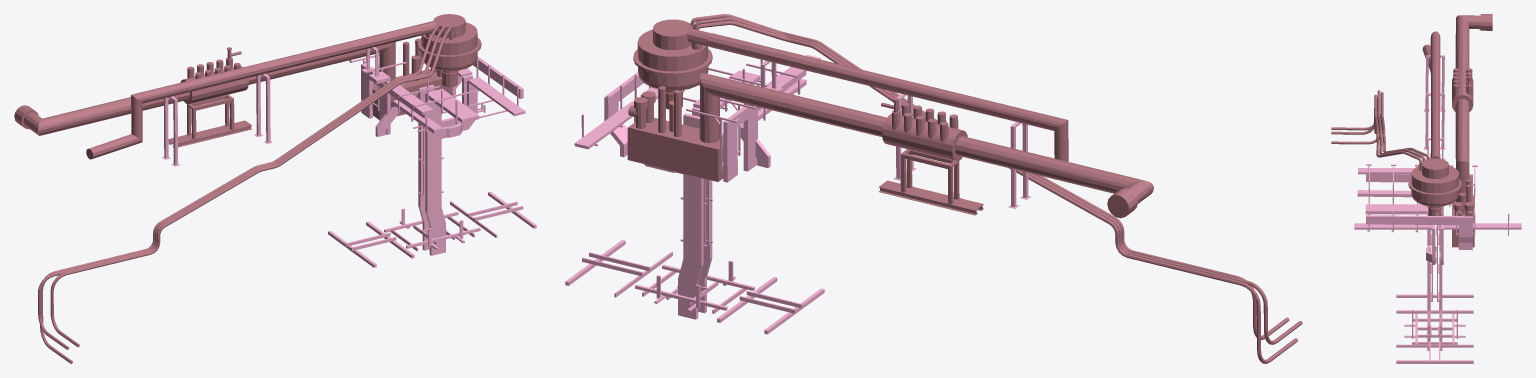
The model's file is Serv-Z0-Sec5.glb.
3 views of the same model, side by side, from view 1: azimuth 30°, elevation 25°; view 2: azimuth 150°, elevation 25°; view 3: azimuth 270°, elevation 25° (orthographic). The views are drawn at different scales.
Visible parts, largest first — view 1: Serv-Z0-Sec5-Vent, Serv-Z0-Sec5, Serv-Z0-Sec5-Frames; view 2: Serv-Z0-Sec5-Vent, Serv-Z0-Sec5, Serv-Z0-Sec5-Frames; view 3: Serv-Z0-Sec5-Vent, Serv-Z0-Sec5, Serv-Z0-Sec5-Frames.
Boxes of the visible parts, x1,y1,x2,y2 form: Serv-Z0-Sec5-Vent: (14,14,481,363); Serv-Z0-Sec5: (361,41,525,255); Serv-Z0-Sec5-Frames: (162,47,536,267); Serv-Z0-Sec5-Vent: (627,14,1302,363); Serv-Z0-Sec5: (574,55,820,319); Serv-Z0-Sec5-Frames: (565,59,1030,334); Serv-Z0-Sec5-Vent: (1331,14,1492,247); Serv-Z0-Sec5: (1354,168,1521,350); Serv-Z0-Sec5-Frames: (1366,55,1509,363).
Bounding box in the file's own units: 18.62 × 8.03 × 7.09.
